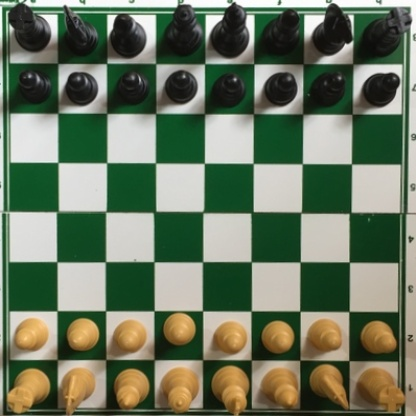black-bishop: (261, 8, 301, 56), (107, 13, 146, 57)
black-king: (209, 1, 251, 57)
black-knight: (313, 1, 355, 57), (56, 2, 99, 55)
black-pawn: (309, 67, 347, 108), (359, 69, 401, 106), (262, 68, 299, 106), (113, 70, 151, 107), (17, 68, 53, 104), (65, 70, 100, 106), (210, 72, 245, 108), (165, 69, 199, 105)
black-queen: (165, 2, 204, 59)
black-rook: (361, 2, 412, 55), (5, 2, 52, 52)
white-bishop: (114, 365, 152, 416), (260, 364, 301, 409)
white-king: (211, 364, 249, 416)
white-knight: (307, 361, 349, 411), (55, 367, 95, 416)
white-pawn: (65, 316, 102, 353), (112, 319, 149, 354), (13, 318, 51, 352), (161, 312, 199, 346), (212, 321, 249, 355), (359, 318, 397, 351), (306, 317, 341, 351), (259, 317, 292, 352)
white-queen: (157, 364, 200, 416)
white-rook: (1, 366, 52, 416), (355, 364, 404, 412)
